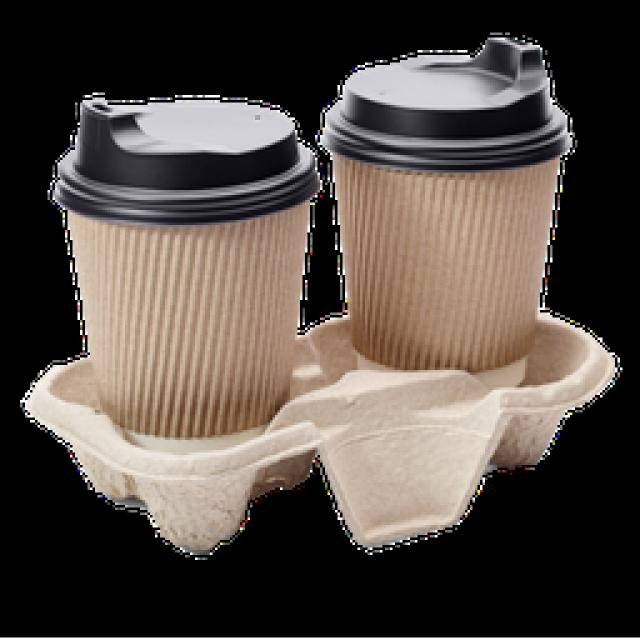paper_cups: (49, 90, 323, 449), (321, 36, 574, 397)
